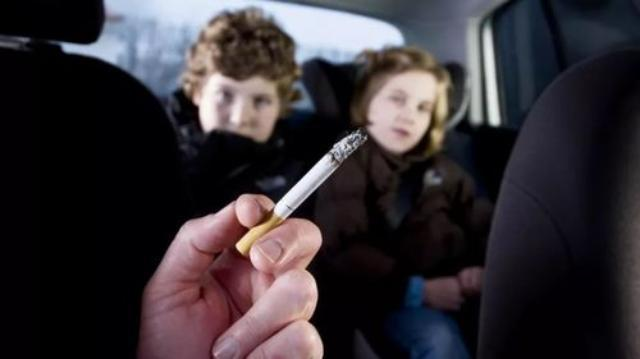SafeDriving: (410, 98, 430, 121)
Smoking: (237, 130, 367, 258)
